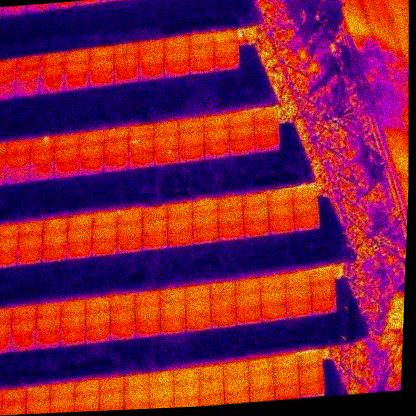Diode: (129, 138, 154, 154)
Hotspot: (110, 292, 137, 310), (209, 281, 236, 299), (299, 381, 325, 399), (84, 312, 111, 329), (142, 219, 169, 236), (103, 127, 130, 144), (160, 302, 186, 319), (26, 386, 51, 403), (243, 206, 269, 222), (266, 190, 292, 206), (154, 149, 179, 165), (116, 209, 142, 224), (31, 136, 55, 152), (164, 49, 189, 64)
Normal: (10, 305, 38, 324), (259, 304, 288, 322), (110, 321, 136, 341), (210, 310, 237, 329), (103, 154, 130, 173), (49, 382, 76, 401), (228, 124, 255, 143), (39, 76, 66, 95), (185, 299, 213, 317), (67, 214, 95, 232), (273, 369, 301, 387), (88, 70, 116, 88), (85, 295, 111, 314), (173, 382, 199, 401), (193, 212, 219, 231), (29, 162, 55, 181), (129, 122, 155, 141), (185, 314, 212, 332), (285, 285, 312, 303), (160, 287, 187, 305), (293, 214, 320, 232), (0, 388, 27, 406), (53, 161, 80, 179), (178, 130, 205, 148), (148, 370, 175, 388), (197, 365, 224, 383), (223, 361, 250, 379), (9, 334, 36, 352), (159, 317, 187, 334), (259, 289, 287, 306), (243, 220, 271, 237), (135, 319, 161, 337), (311, 297, 337, 315), (310, 282, 336, 300), (60, 299, 86, 317), (124, 389, 150, 407), (168, 229, 194, 247), (5, 167, 31, 185), (99, 377, 125, 395), (15, 81, 41, 99), (64, 74, 90, 92), (139, 65, 165, 83), (248, 358, 274, 376), (74, 395, 101, 412), (185, 284, 212, 301), (41, 246, 68, 263), (193, 228, 220, 245), (218, 224, 245, 241), (223, 377, 250, 394), (92, 225, 119, 242), (128, 152, 155, 169), (153, 133, 180, 150), (203, 129, 230, 146), (173, 367, 200, 384), (274, 384, 301, 401), (34, 331, 61, 348), (59, 329, 86, 346), (84, 327, 111, 344), (60, 315, 86, 332), (135, 304, 161, 321), (235, 293, 261, 310), (36, 302, 62, 319), (99, 393, 125, 410), (235, 278, 261, 295), (309, 268, 335, 285), (148, 385, 174, 402), (17, 248, 43, 265), (67, 229, 93, 246), (218, 210, 244, 227), (92, 212, 118, 229), (142, 205, 168, 222), (78, 144, 104, 161), (179, 117, 205, 134), (203, 114, 229, 131), (114, 67, 140, 84), (273, 354, 299, 371), (286, 301, 313, 317), (35, 318, 62, 334), (167, 216, 194, 232), (74, 381, 101, 397), (236, 307, 261, 324), (110, 307, 135, 324), (293, 201, 318, 218), (193, 198, 218, 215), (230, 140, 255, 157), (298, 352, 323, 369), (211, 297, 237, 313), (135, 291, 161, 307), (260, 275, 286, 291), (67, 243, 93, 259), (142, 234, 168, 250), (269, 218, 295, 234), (42, 232, 68, 248), (268, 203, 294, 219), (43, 219, 69, 235), (248, 374, 274, 390), (167, 203, 193, 219), (180, 147, 206, 163), (205, 143, 231, 159), (54, 147, 80, 163), (253, 123, 279, 139), (6, 140, 32, 156), (228, 111, 254, 127), (164, 62, 190, 78), (214, 55, 240, 71), (16, 55, 42, 71), (189, 32, 215, 48), (299, 366, 323, 383), (285, 272, 310, 288), (92, 239, 117, 255), (117, 236, 142, 252), (18, 236, 43, 252), (117, 223, 142, 239), (19, 222, 44, 238), (242, 193, 267, 209), (78, 159, 103, 175), (254, 136, 279, 152), (104, 141, 129, 157), (54, 134, 79, 150), (79, 131, 104, 147), (154, 120, 179, 136), (124, 374, 149, 390), (253, 109, 278, 125), (190, 58, 215, 74), (164, 36, 189, 52), (49, 398, 75, 413), (198, 381, 224, 396), (64, 62, 90, 77), (189, 46, 215, 61), (65, 49, 91, 64), (218, 197, 242, 213), (292, 189, 316, 205), (90, 44, 114, 60), (11, 321, 36, 336), (6, 153, 31, 168), (139, 40, 164, 55), (214, 29, 239, 44), (40, 65, 66, 79), (139, 53, 165, 67), (30, 149, 54, 164), (215, 41, 239, 56), (115, 43, 139, 58), (89, 58, 114, 72), (114, 55, 139, 69), (42, 52, 65, 67), (16, 69, 40, 83), (0, 251, 18, 269), (0, 224, 20, 240), (25, 402, 51, 414), (0, 83, 17, 101), (0, 404, 27, 415), (0, 238, 19, 253), (0, 59, 17, 74), (0, 307, 13, 325), (0, 72, 16, 86), (0, 323, 12, 339), (0, 336, 11, 352), (0, 142, 8, 157), (0, 169, 6, 185), (0, 156, 6, 170)
